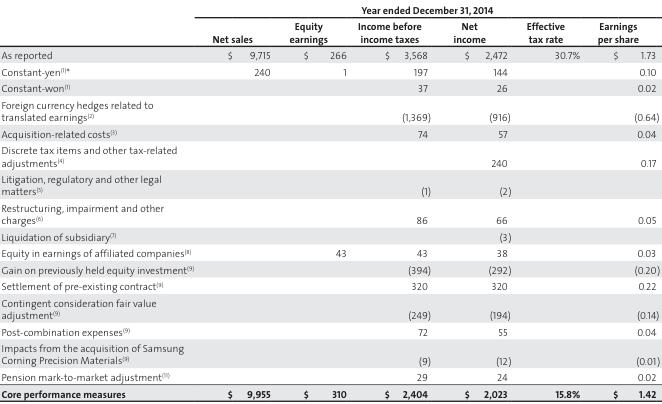table: (0, 1, 659, 401)
table column: (0, 1, 202, 401), (351, 1, 441, 401), (202, 1, 279, 401), (441, 1, 518, 401), (279, 1, 351, 401), (588, 1, 659, 401), (518, 1, 588, 401)
table column header: (0, 1, 659, 46)
table row: (0, 17, 659, 46), (0, 95, 659, 124), (0, 141, 659, 170), (0, 198, 659, 227), (0, 293, 659, 322), (0, 339, 659, 368), (0, 170, 659, 198), (0, 62, 659, 79), (0, 124, 659, 141), (0, 227, 659, 244), (0, 260, 659, 277), (0, 322, 659, 339), (0, 384, 659, 401), (0, 1, 659, 17), (0, 46, 659, 62), (0, 79, 659, 95), (0, 244, 659, 260), (0, 277, 659, 293), (0, 368, 659, 384)
table spanning cell: (202, 1, 659, 17)
